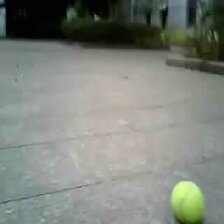tennis: (173, 182, 203, 224)
